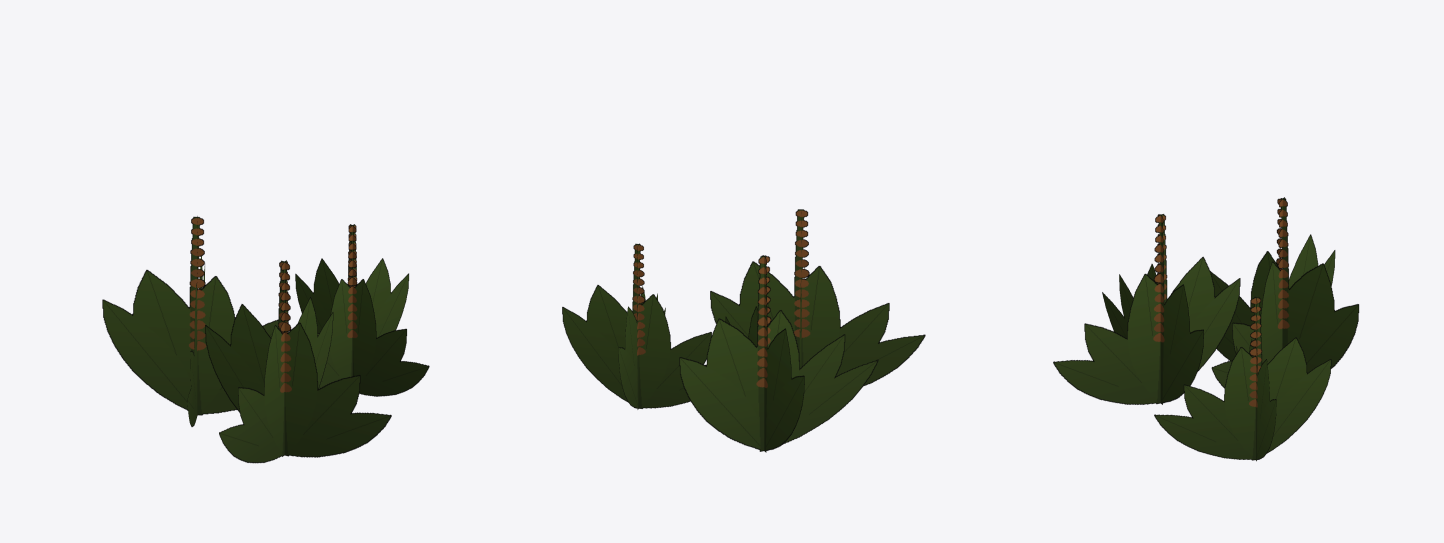
Rendered from prop_flora_dock.glb.
3 views of the same model, side by side, from view 1: azimuth 30°, elevation 25°; view 2: azimuth 150°, elevation 25°; view 3: azimuth 270°, elevation 25° (orthographic). The views are drawn at different scales.
Visible parts, largest first — view 1: dock_2, dock_1, dock_0; view 2: dock_1, dock_0, dock_2; view 3: dock_2, dock_0, dock_1.
Part boxes in pixels (left/top/right/bottom): dock_2: left=205, top=260, right=391, bottom=463; dock_1: left=102, top=216, right=288, bottom=426; dock_0: left=295, top=224, right=429, bottom=396; dock_1: left=679, top=255, right=878, bottom=452; dock_0: left=562, top=243, right=711, bottom=409; dock_2: left=710, top=209, right=925, bottom=385; dock_2: left=1053, top=214, right=1240, bottom=404; dock_0: left=1154, top=297, right=1331, bottom=461; dock_1: left=1210, top=197, right=1359, bottom=388.
Size of the model in its own units: 0.5248 by 0.4158 by 0.4916.
1 material, 1 textured.
